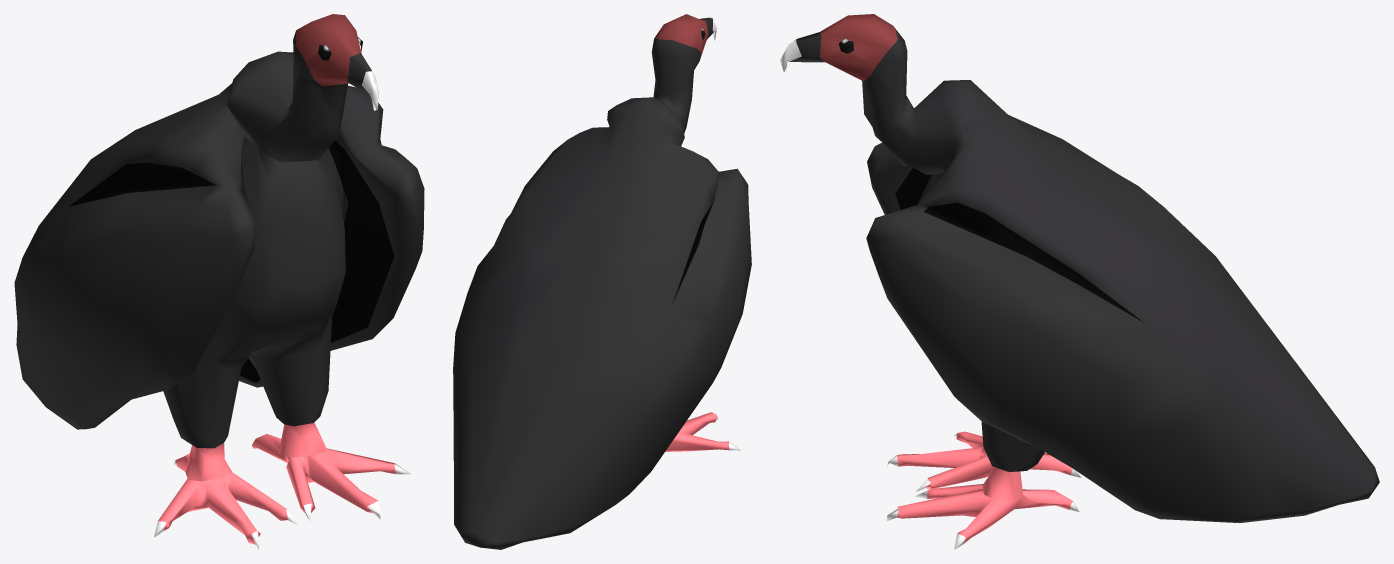
File: 2139a685-8117-49e3-b52e-97cbdaaa1666.glb
3 renders of one model, left to right at view 1: azimuth 30°, elevation 25°; view 2: azimuth 150°, elevation 25°; view 3: azimuth 270°, elevation 25°, orthographic. The views are drawn at different scales.
Visible parts, largest first — view 1: TurkeyVulture; view 2: TurkeyVulture; view 3: TurkeyVulture.
Boxes of the visible parts, left/top/right/bottom form: TurkeyVulture: left=14, top=14, right=424, bottom=549; TurkeyVulture: left=453, top=14, right=751, bottom=549; TurkeyVulture: left=780, top=14, right=1379, bottom=549.
Size of what is drawn, in the model's own units: 0.521 by 0.8171 by 0.9307.
Materials: 1 (1 with a texture image).
